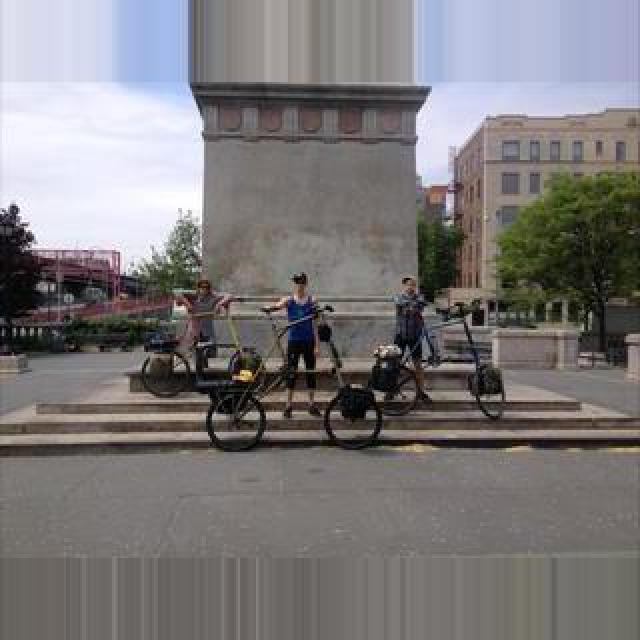MC-Bike: (260, 270, 330, 406), (392, 276, 436, 392), (178, 278, 234, 358)
Person: (202, 310, 350, 452), (338, 310, 508, 432), (256, 272, 338, 432), (138, 310, 270, 400)
